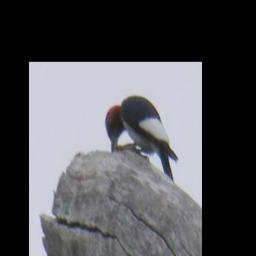Woodpecker: (102, 92, 181, 183)
